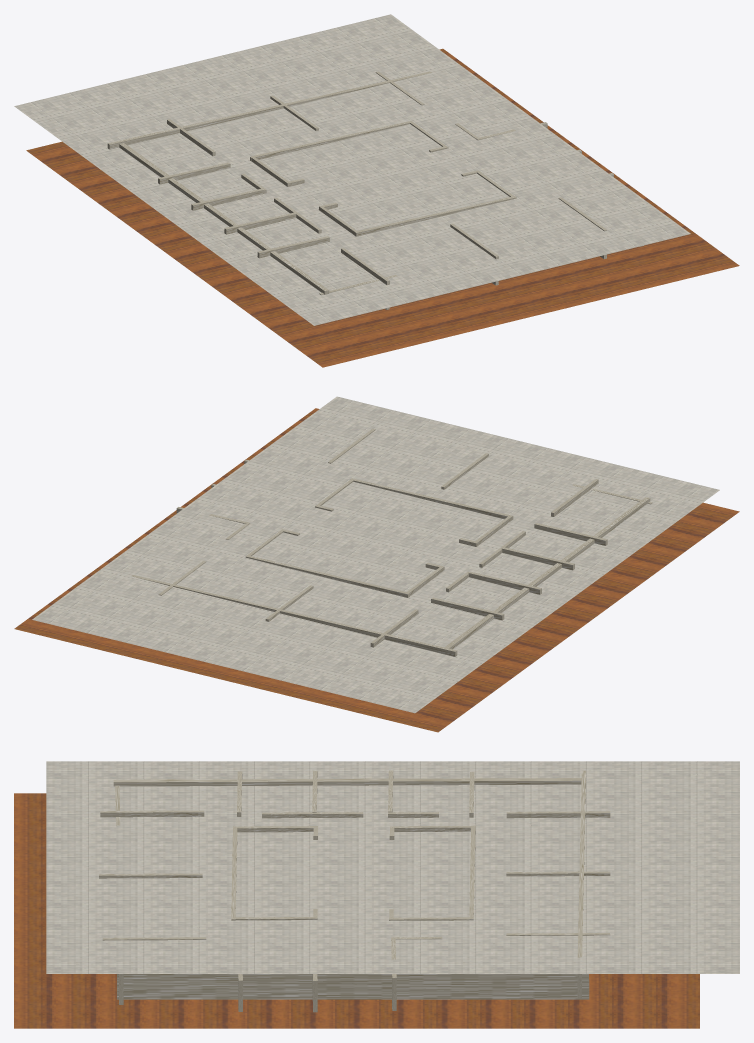
File: roofmap.glb
3 renders of one model, top to bottom at view 1: azimuth 30°, elevation 25°; view 2: azimuth 150°, elevation 25°; view 3: azimuth 270°, elevation 25°, orthographic. The views are drawn at different scales.
Parts seen in each view (by area): view 1: Plane.001, Plane, Cube, Cube.004, Cube.017, Cube.018; view 2: Plane.001, Plane, Cube, Cube.004, Cube.018, Cube.017; view 3: Plane.001, Plane, Cube.003, Cube, Cube.004, Cube.015, Cube.008, Cube.016, Cube.021, Cube.007, Cube.017, Cube.018 (+1 smaller).
Boxes of the visible parts, x1,y1,x2,y2 form: Plane.001: (14,14,690,325); Plane: (26,48,739,367); Cube: (119,143,329,294); Cube.004: (107,71,431,149); Cube.017: (354,196,516,236); Cube.018: (250,121,411,161); Plane.001: (32,396,719,713); Plane: (14,408,739,732); Cube: (444,497,650,649); Cube.004: (131,575,457,656); Cube.018: (246,555,409,597); Cube.017: (350,478,513,520); Plane.001: (46,761,739,973); Plane: (14,793,699,1028); Cube.003: (117,974,589,999); Cube: (113,778,581,786); Cube.004: (577,770,585,998); Cube.015: (100,810,204,817); Cube.008: (506,811,610,818); Cube.016: (99,873,202,878); Cube.021: (234,826,317,832); Cube.007: (506,871,610,876); Cube.017: (231,826,237,920); Cube.018: (469,825,475,918).
Size of the model in its own units: 97.19 by 8.19 by 127.
Materials: 9 (9 with a texture image).
